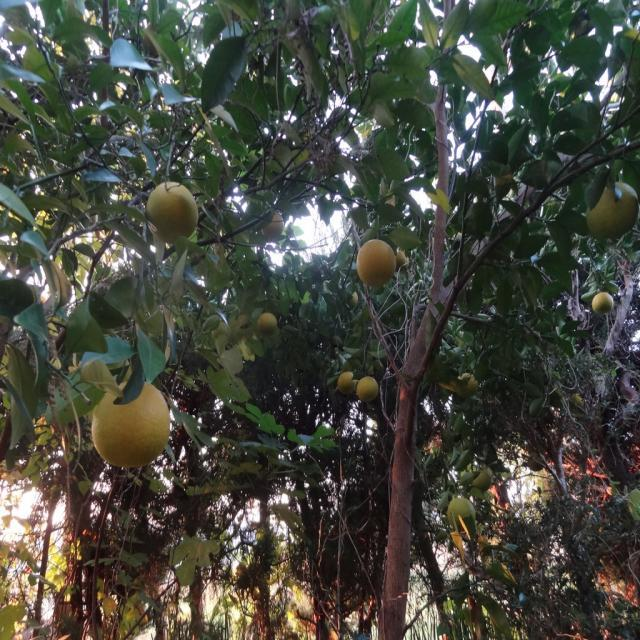Lemon: (92, 375, 170, 465), (584, 176, 640, 242), (146, 181, 196, 243), (353, 237, 395, 291), (443, 497, 479, 528), (458, 465, 494, 495), (591, 286, 615, 318), (357, 374, 379, 403), (333, 371, 359, 395), (256, 308, 278, 336)
